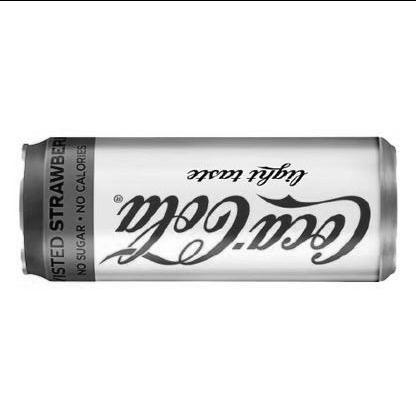alumunium_can: (17, 133, 401, 283)
